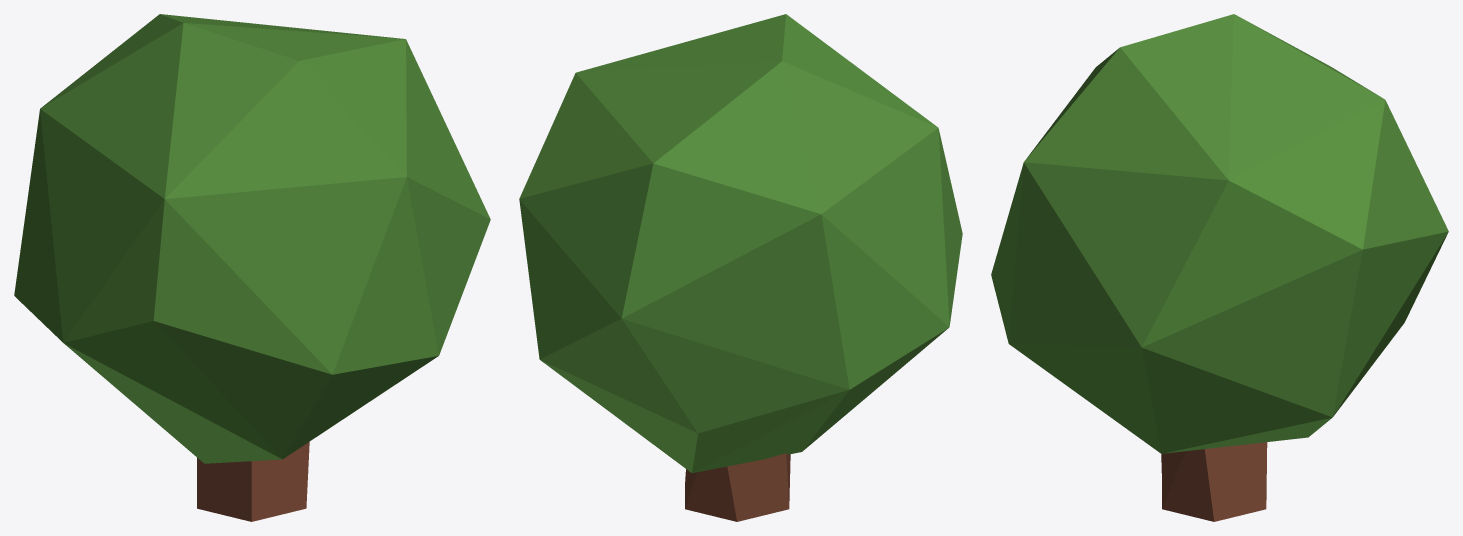
Rendered from bush_3_summer_vc.fbx.
3 renders of one model, left to right at view 1: azimuth 30°, elevation 25°; view 2: azimuth 150°, elevation 25°; view 3: azimuth 270°, elevation 25°, orthographic. The views are drawn at different scales.
Visible parts, largest first — view 1: bush_3_summer_vc; view 2: bush_3_summer_vc; view 3: bush_3_summer_vc.
Part boxes in pixels (bbox=[...]): bush_3_summer_vc: bbox=[14, 14, 490, 521]; bush_3_summer_vc: bbox=[519, 14, 962, 521]; bush_3_summer_vc: bbox=[991, 14, 1448, 521].
Size of the model in its own units: 0.91 by 1.02 by 0.9319.
